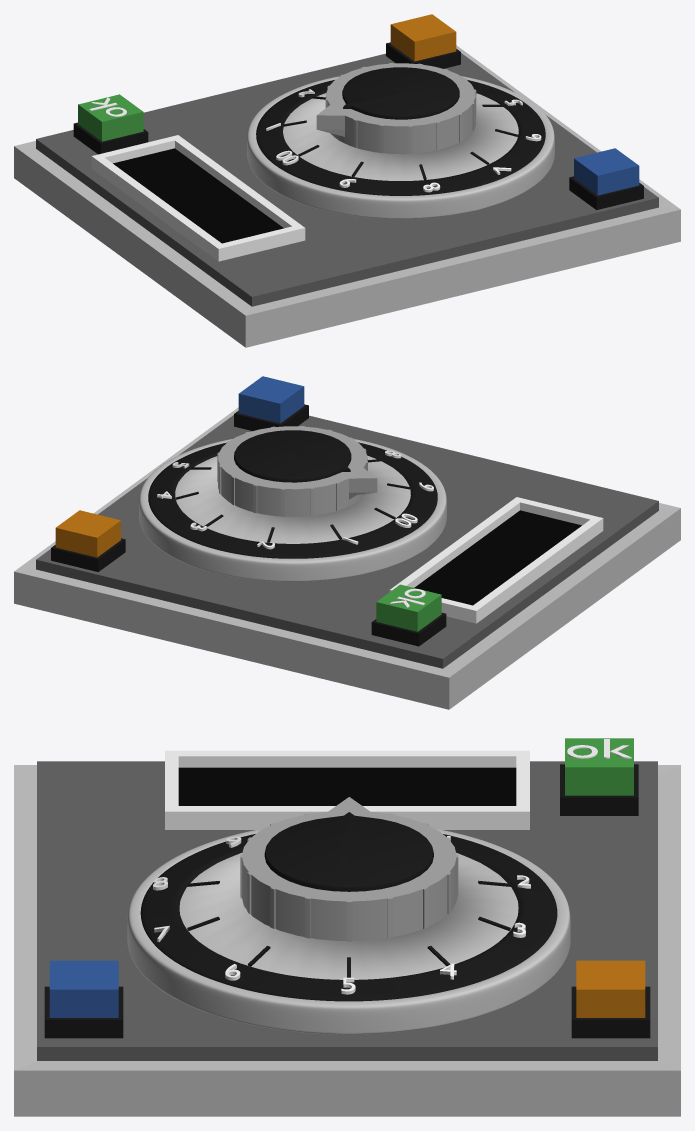
File: coffre fortV3.fbx
3 renders of one model, top to bottom at view 1: azimuth 30°, elevation 25°; view 2: azimuth 150°, elevation 25°; view 3: azimuth 270°, elevation 25°, orthographic. The views are drawn at different scales.
Parts seen in each view (by area): view 1: porte_coffre, support_conteur, compteur_tourner, Button_Avance, Button_OK, Button_Arriere; view 2: porte_coffre, support_conteur, compteur_tourner, Button_Arriere, Button_OK, Button_Avance; view 3: porte_coffre, support_conteur, compteur_tourner, Button_Avance, Button_Arriere, Button_OK.
Boxes of the visible parts, bbox=[...] form: porte_coffre: bbox=[36, 42, 658, 306]; support_conteur: bbox=[14, 45, 680, 347]; compteur_tourner: bbox=[316, 63, 476, 154]; Button_Avance: bbox=[390, 14, 456, 61]; Button_OK: bbox=[78, 94, 143, 141]; Button_Arriere: bbox=[574, 148, 639, 195]; porte_coffre: bbox=[36, 404, 658, 668]; support_conteur: bbox=[14, 407, 680, 709]; compteur_tourner: bbox=[217, 426, 377, 516]; Button_Arriere: bbox=[238, 376, 304, 423]; Button_OK: bbox=[376, 584, 441, 631]; Button_Avance: bbox=[55, 510, 120, 557]; porte_coffre: bbox=[37, 750, 657, 1060]; support_conteur: bbox=[14, 765, 680, 1116]; compteur_tourner: bbox=[240, 797, 458, 941]; Button_Avance: bbox=[576, 960, 645, 1017]; Button_Arriere: bbox=[49, 960, 118, 1017]; Button_OK: bbox=[565, 738, 633, 795].
Size of the model in its own units: 643 by 148 by 593.
3 materials, 3 textured.
